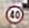limite 40: (4, 4, 23, 25)
